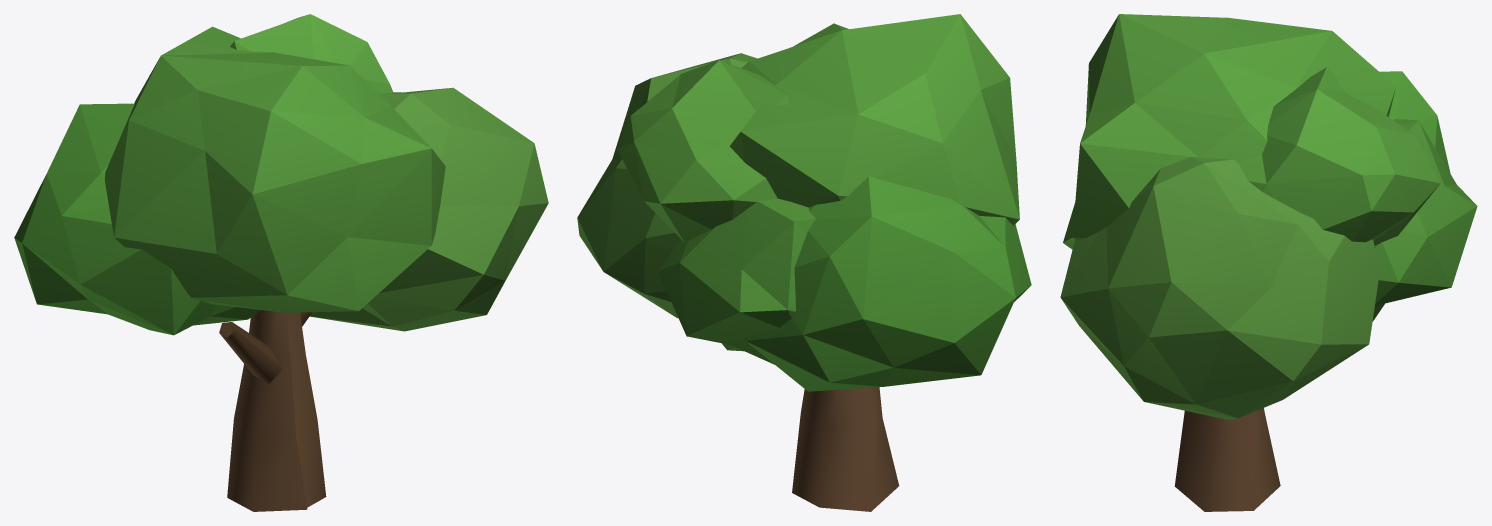
File: arbol_3.glb
The picture shows the model from 3 angles, left to right: view 1: azimuth 30°, elevation 25°; view 2: azimuth 150°, elevation 25°; view 3: azimuth 270°, elevation 25°; orthographic projection. The views are drawn at different scales.
Parts seen in each view (by area): view 1: arbol_3; view 2: arbol_3; view 3: arbol_3.
Boxes of the visible parts, x1,y1,x2,y2 form: arbol_3: (14, 14, 548, 511); arbol_3: (577, 14, 1031, 511); arbol_3: (1060, 14, 1477, 511).
Bounding box in the file's own units: 0.6889 × 0.653 × 0.549.
